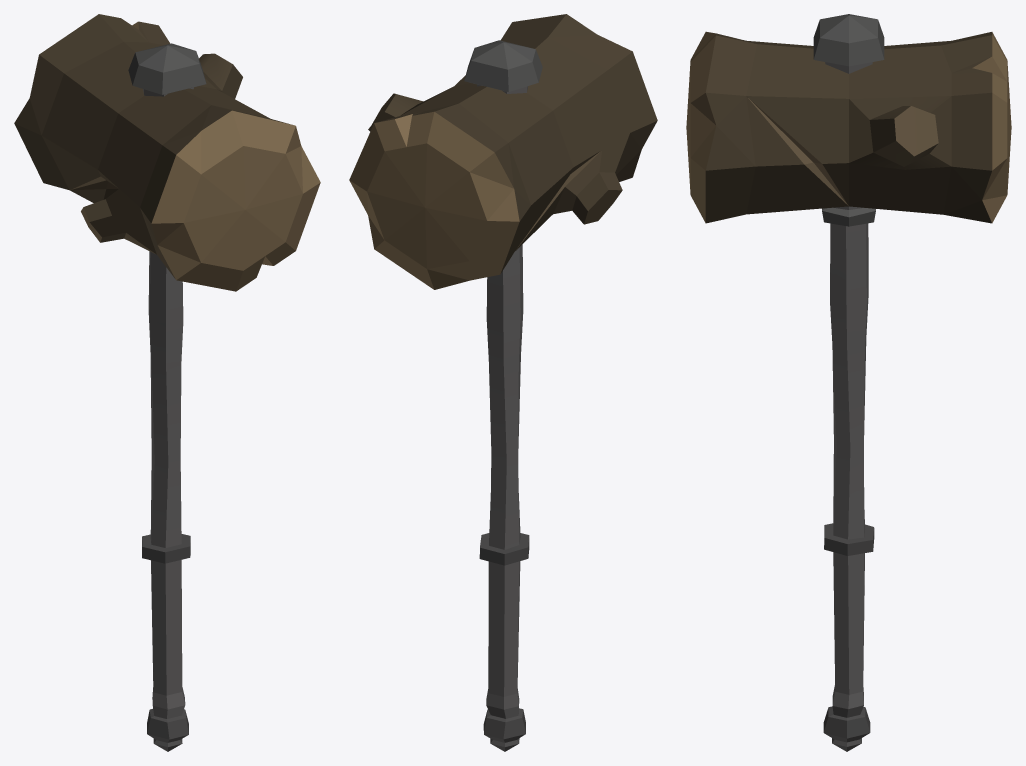
Rendered from SM_Wep_Hammer_Large_Wood_01.glb.
3 views of the same model, side by side, from view 1: azimuth 30°, elevation 25°; view 2: azimuth 150°, elevation 25°; view 3: azimuth 270°, elevation 25° (orthographic). The views are drawn at different scales.
Visible parts, largest first — view 1: SM_Wep_Hammer_Large_Wood_01; view 2: SM_Wep_Hammer_Large_Wood_01; view 3: SM_Wep_Hammer_Large_Wood_01.
Part boxes in pixels (x1=…): SM_Wep_Hammer_Large_Wood_01: x1=14, y1=14, x2=320, y2=751; SM_Wep_Hammer_Large_Wood_01: x1=349, y1=14, x2=657, y2=751; SM_Wep_Hammer_Large_Wood_01: x1=686, y1=14, x2=1011, y2=751.
Size of the model in its own units: 0.00499 by 0.0169 by 0.00676.
1 material, 1 textured.
